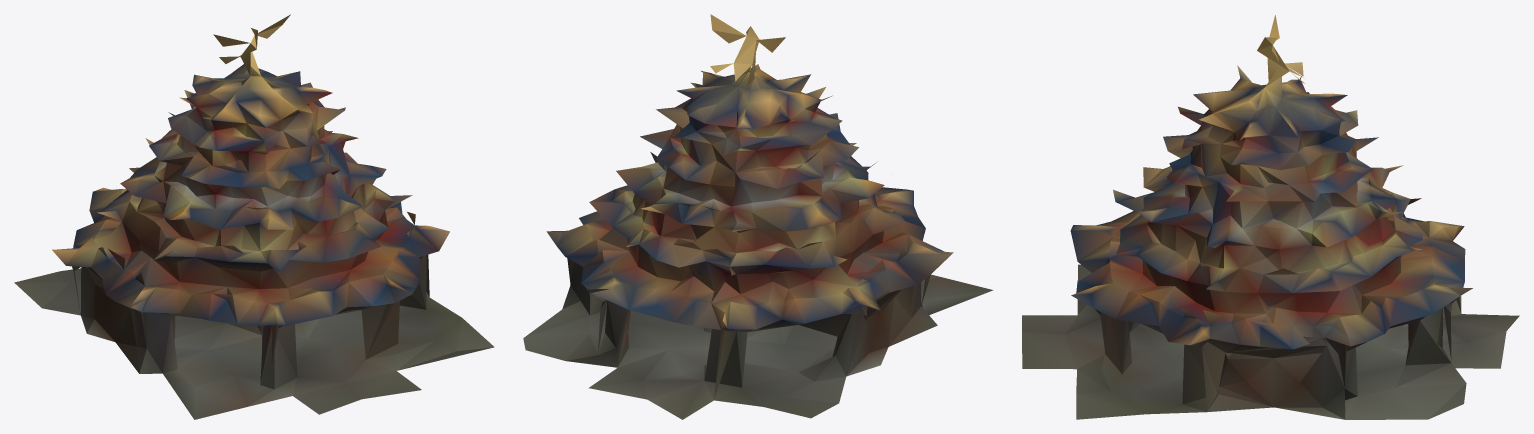
The model's file is bq_pagoda.vc2.glb.
3 renders of one model, left to right at view 1: azimuth 30°, elevation 25°; view 2: azimuth 150°, elevation 25°; view 3: azimuth 270°, elevation 25°, orthographic. The views are drawn at different scales.
Parts seen in each view (by area): view 1: bq_pagoda; view 2: bq_pagoda; view 3: bq_pagoda.
Part boxes in pixels (<box>): bq_pagoda: <box>14,14,494,419</box>; bq_pagoda: <box>523,14,993,419</box>; bq_pagoda: <box>1022,15,1519,419</box>.
Bounding box in the file's own units: 1.53 × 1.31 × 1.9.
